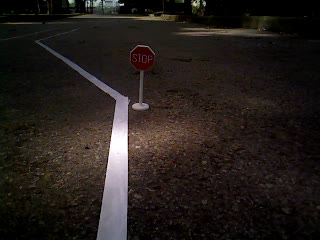Stop: (129, 43, 157, 71)
